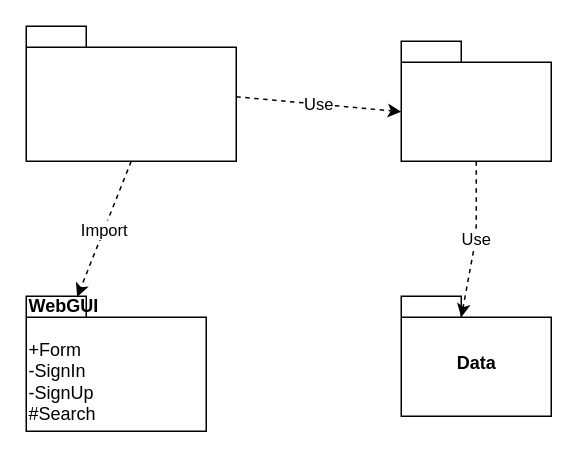
Some shapes in this 578 by 473 pixel diagram are drawn without their labels. Each missing label, with the centre of its shape:
Server +DataBase -UserService #ContentService: (x=475, y=100)
Users +ReplyManagement -SchoolManagement -TopicMangement -UserManagement: (x=130, y=93)
